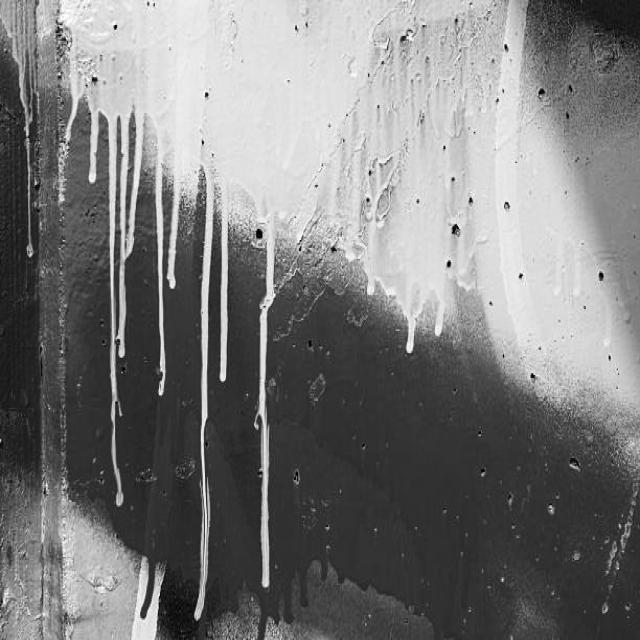paint drips: (58, 68, 181, 504), (185, 158, 281, 640), (335, 213, 450, 387), (253, 548, 379, 640), (535, 220, 618, 358), (0, 12, 40, 279), (138, 510, 162, 632)
